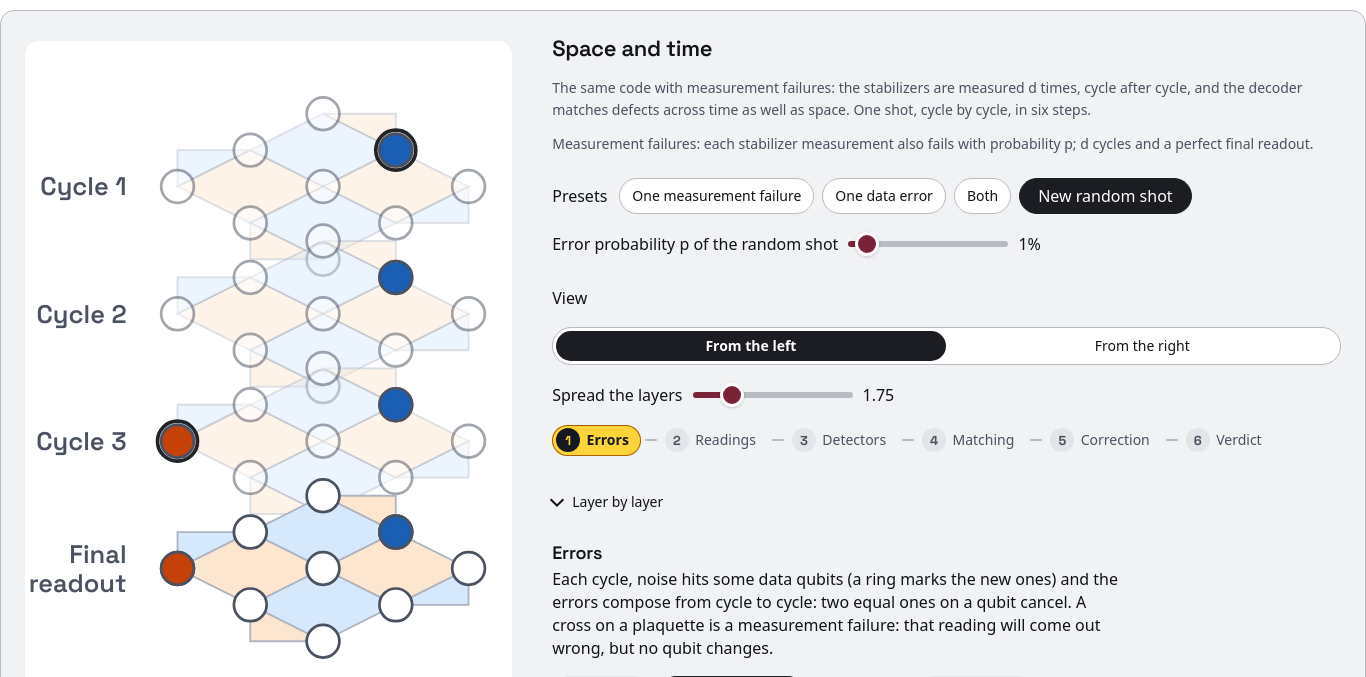
it: SpacetimePanel (T-G7) › copying the link writes the current shot's #v= URL to the clipboard and says so; a failure says so too
Step 1. Click the button "One measurement failure" → [717, 196], box [619,178,814,214]
(page scrolled)
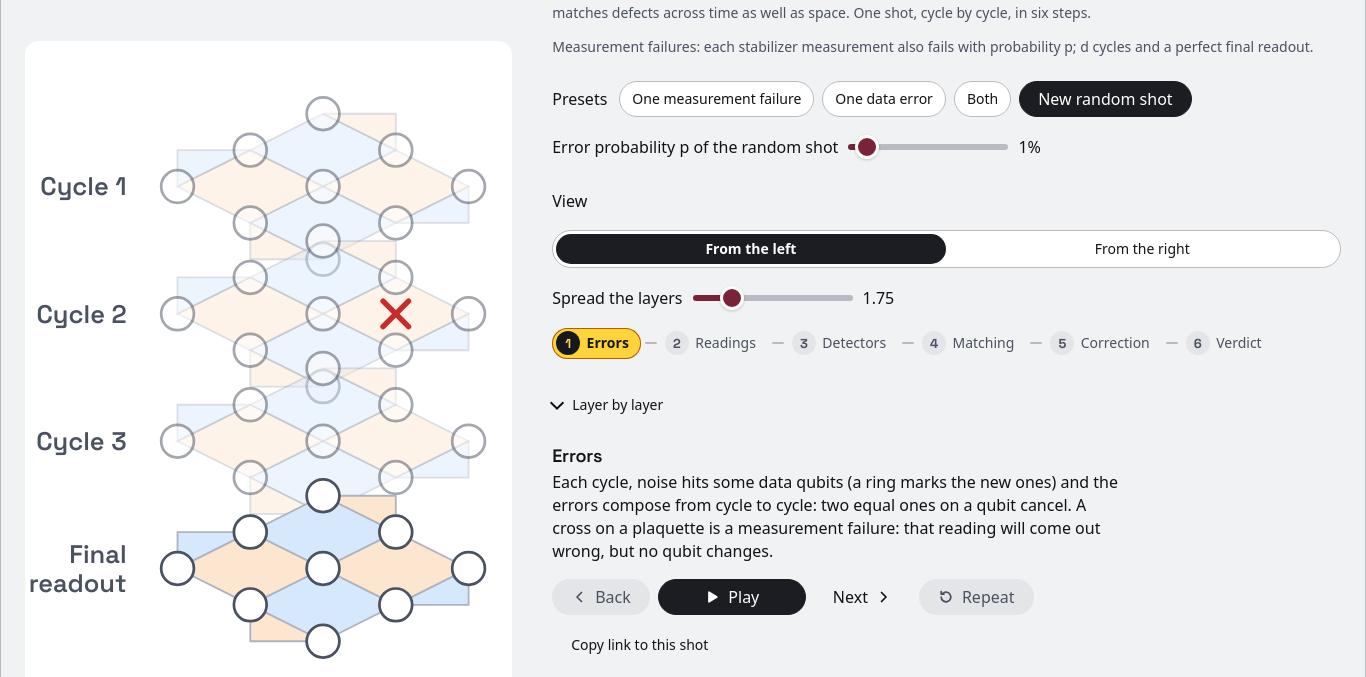
Step 2. Click the button "Copy link to this shot" → [640, 646], box [552,628,727,664]
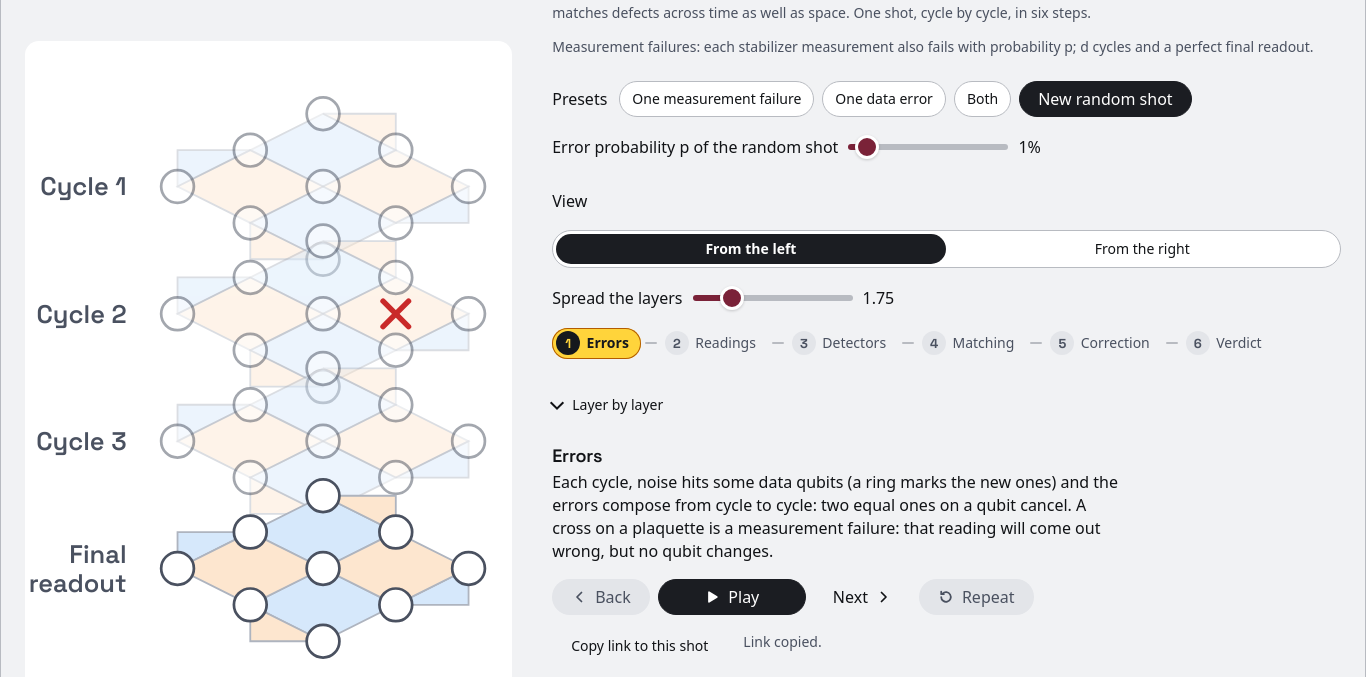
Step 3. Click the button "Copy link to this shot" → [640, 646], box [552,628,727,664]
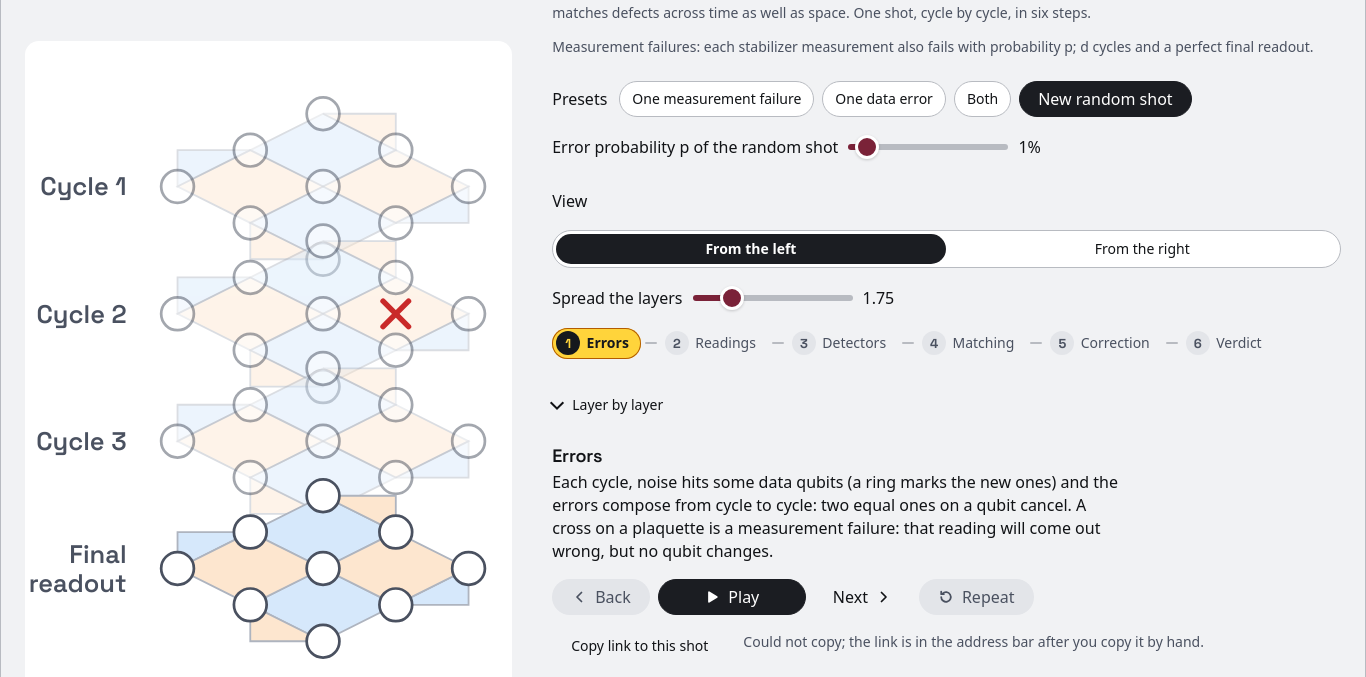
# A new shot clears the message.
Step 4. Click the button "One data error" → [884, 100], box [822,82,946,118]
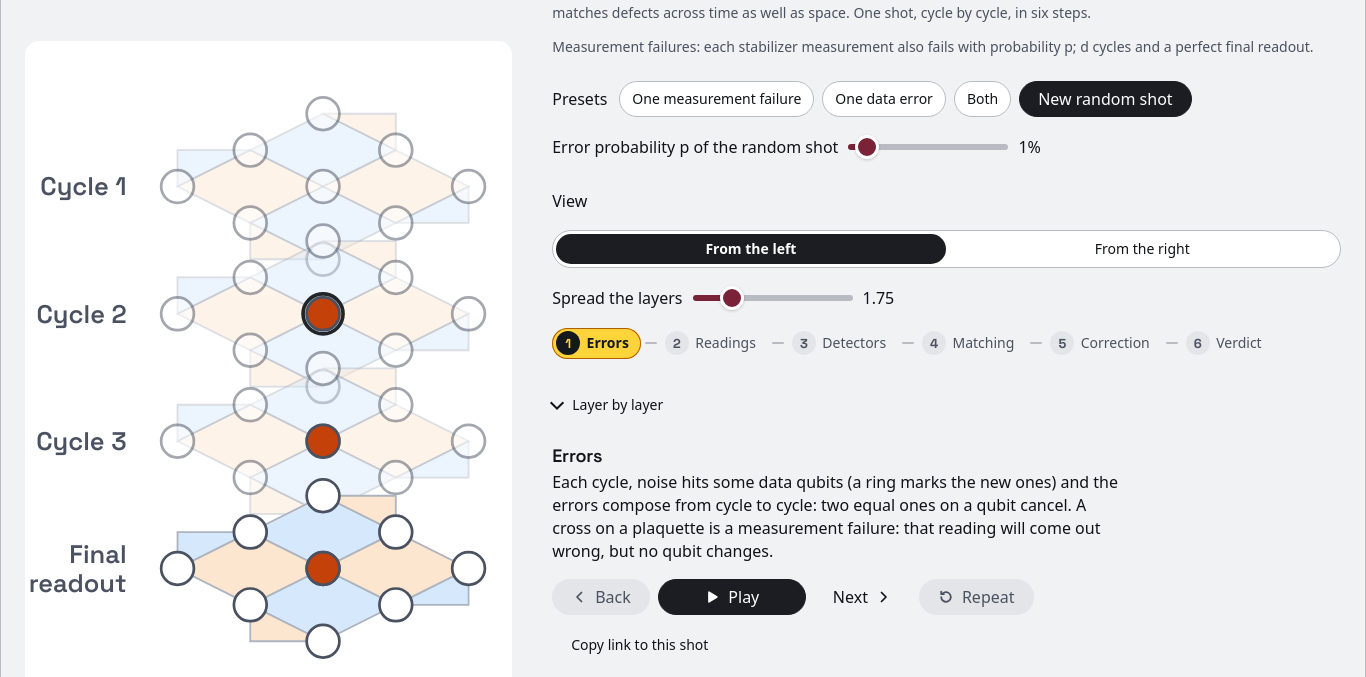
Expected: the text "Could not copy; the link is in the address bar after you copy it by hand." is gone
